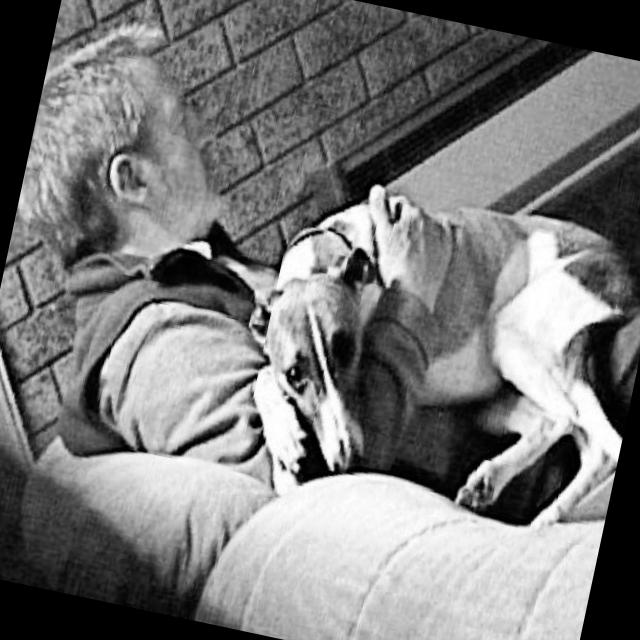Dog: (217, 160, 640, 567)
Person: (0, 0, 486, 529)
